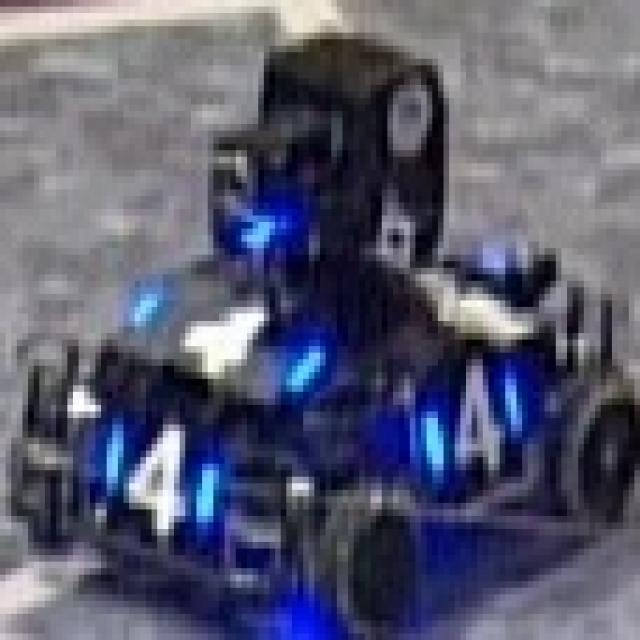B4: (95, 418, 219, 542), (416, 353, 522, 483)
